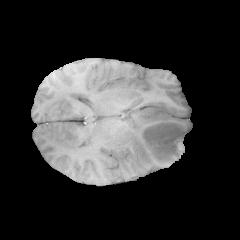glioma: (123, 106, 190, 166)
